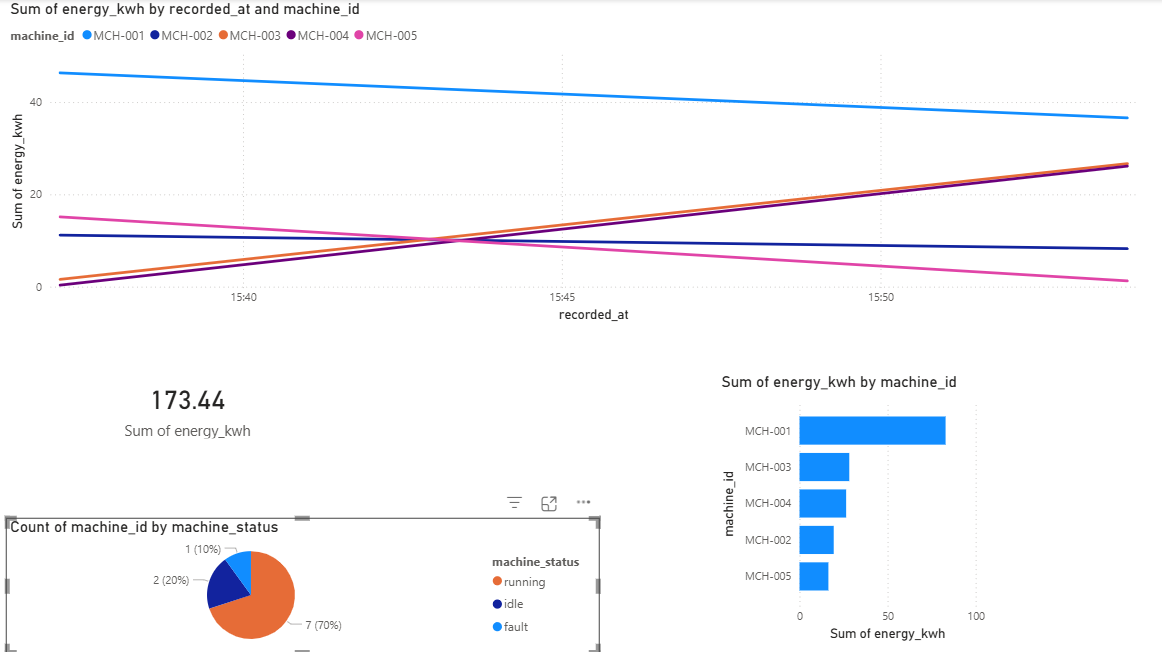

What the dashboard file says about the page in this screenshot:
{"tool":"powerbi","page":{"name":"Page 1","canvas":[1280,720],"ordinal":0},"visuals":[{"type":"lineChart","fields":{"Y":["Sum(fact_energy_hourly_rows.energy_kwh)"],"Series":["fact_energy_hourly_rows.machine_id"],"Category":["fact_energy_hourly_rows.recorded_at"]},"box":[9.6,0,1251.5,359.5],"z":0},{"type":"pieChart","fields":{"Category":["fact_energy_hourly_rows.machine_status"],"Y":["CountNonNull(fact_energy_hourly_rows.machine_id)"]},"box":[9.6,569.5,651.8,150.9],"z":1},{"type":"clusteredBarChart","fields":{"Category":["fact_energy_hourly_rows.machine_id"],"Y":["Sum(fact_energy_hourly_rows.energy_kwh)"]},"box":[790.4,410.3,299.1,299.1],"z":2},{"type":"card","fields":{"Values":["Sum(fact_energy_hourly_rows.energy_kwh)"]},"box":[9.6,410.3,399.3,76.8],"z":3}]}

Visuals, with their boxes in screenshot pixels (x1, y1, x2, y2), scaled from the page's 1280x720 canvas onto the 1162x652 screenshot:
lineChart - Sum(fact_energy_hourly_rows.energy_kwh) x fact_energy_hourly_rows.machine_id: {"left": 9, "top": 0, "right": 1145, "bottom": 326}
pieChart - fact_energy_hourly_rows.machine_status x CountNonNull(fact_energy_hourly_rows.machine_id): {"left": 9, "top": 516, "right": 600, "bottom": 651}
clusteredBarChart - fact_energy_hourly_rows.machine_id x Sum(fact_energy_hourly_rows.energy_kwh): {"left": 718, "top": 372, "right": 989, "bottom": 642}
card - Sum(fact_energy_hourly_rows.energy_kwh): {"left": 9, "top": 372, "right": 371, "bottom": 441}
